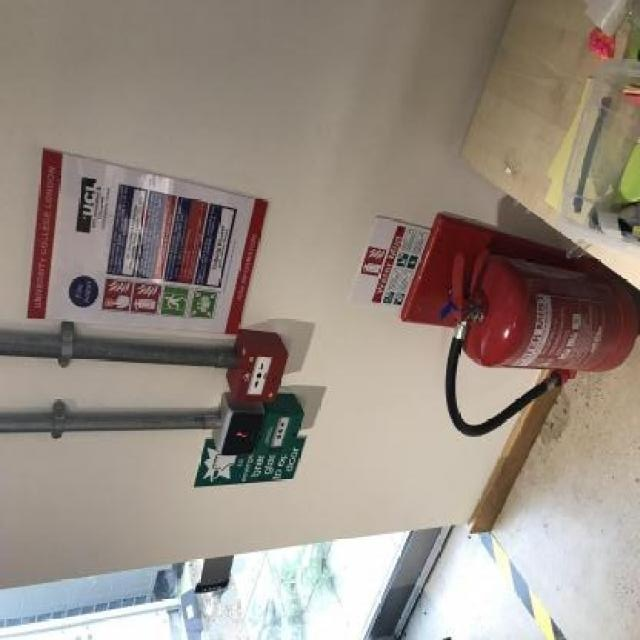fire extinguisher: (437, 241, 640, 445)
